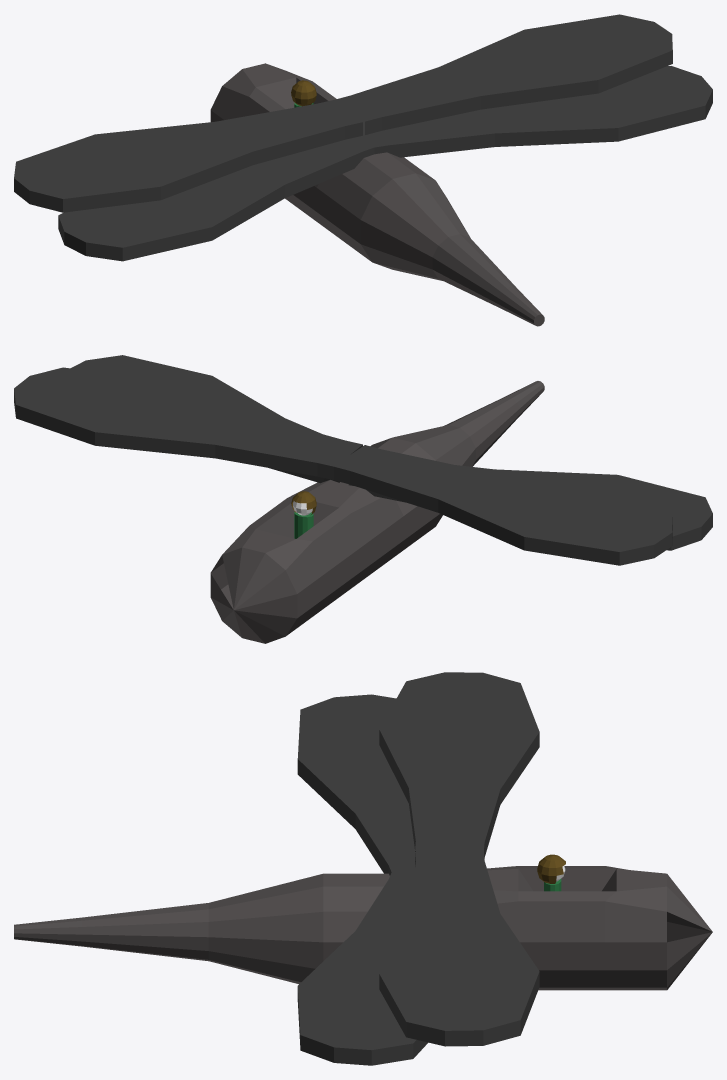
Rendered from BunnyVehicle.gltf.
3 views of the same model, one above another, from view 1: azimuth 30°, elevation 25°; view 2: azimuth 150°, elevation 25°; view 3: azimuth 270°, elevation 25° (orthographic). The views are drawn at different scales.
Parts seen in each view (by area): view 1: wings_1_selection (×2), body, wings_1, wings_2, Helmet; view 2: body, wings_1_selection (×2), wings_1, wings_2; view 3: body, wings_1_selection (×2), wings_1, wings_2, Helmet.
Part boxes in pixels (x1,y1,x2,y2): wings_1_selection (×2): (335, 14, 712, 157); body: (210, 63, 544, 326); wings_1: (14, 99, 362, 212); wings_2: (58, 136, 374, 261); Helmet: (291, 80, 316, 106); body: (210, 381, 544, 643); wings_1_selection (×2): (14, 355, 362, 483); wings_1: (334, 445, 672, 565); wings_2: (348, 465, 712, 550); body: (14, 866, 712, 990); wings_1_selection (×2): (297, 851, 539, 1065); wings_1: (379, 672, 539, 858); wings_2: (297, 694, 414, 875); Helmet: (537, 854, 565, 883).
Bounding box in the file's own units: 7.41 × 1.27 × 6.1.
Materials: 5 (4 with a texture image).
